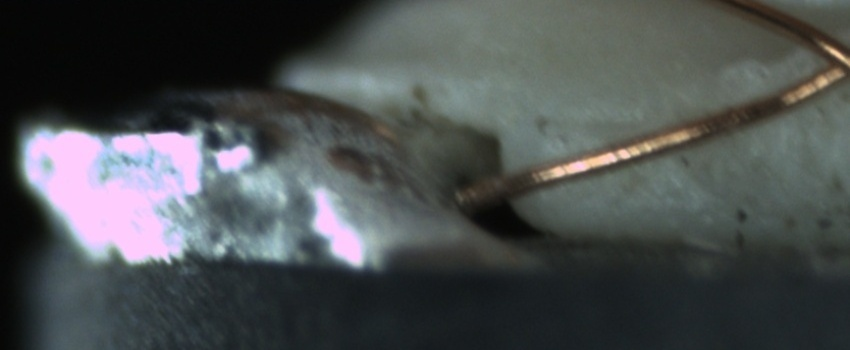CL: (798, 23, 849, 98)
DL: (533, 96, 660, 154)
